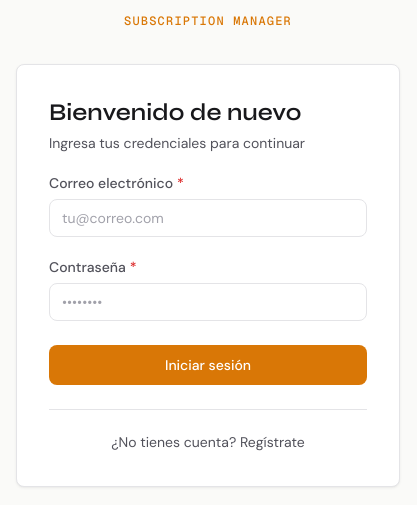
Test: LoginPage › toggles back to login mode
Click the button "¿No tienes cuenta? Regístrate": (208, 442) left=111, top=432, right=305, bottom=452
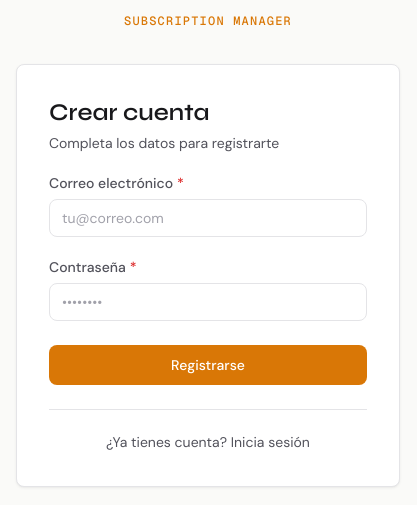
Click the button "¿Ya tienes cuenta? Inicia sesión": (208, 442) left=106, top=432, right=310, bottom=452
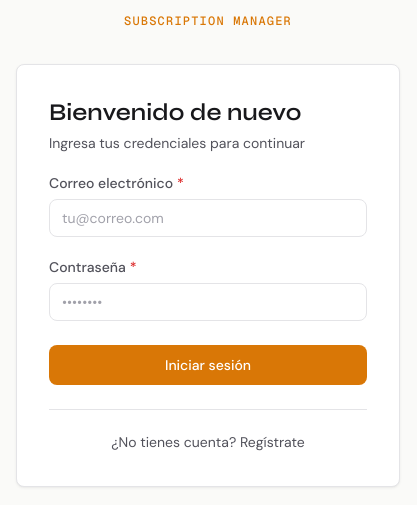
Check: the heading "Bienvenido de nuevo" is shown, box left=49, top=98, right=301, bottom=126
